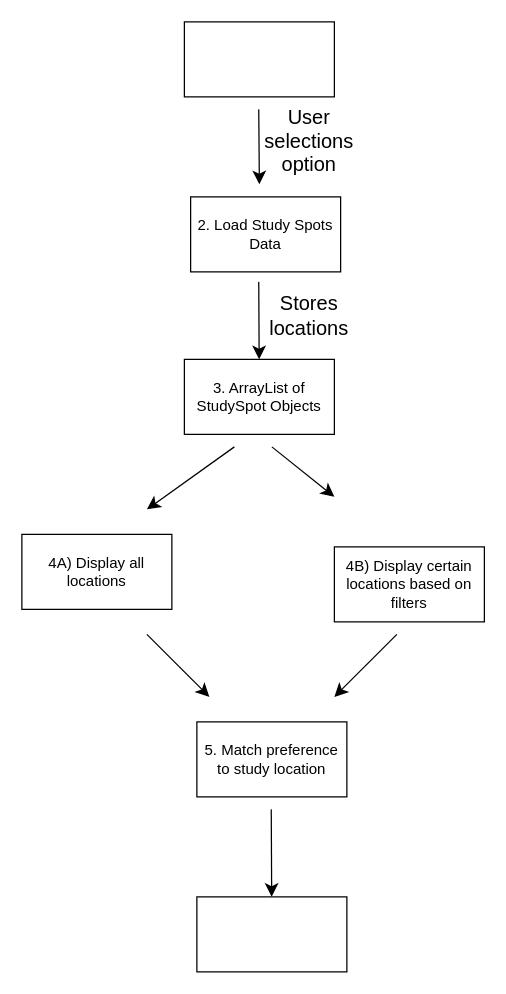
This 506x994 diagram has some shape labels left out. The shapes that lost their labels are listed below. From the top down, each one's centre as x and y in pixels, then its label:
point 258,59: 1. Start: Main.java Program starts and displays main menu
point 271,934: 6. End/Exit
